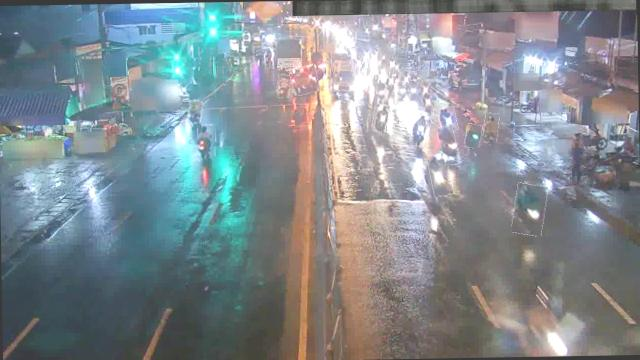Bike: (512, 183, 547, 236), (428, 154, 452, 196), (440, 125, 460, 164), (197, 125, 216, 159), (411, 114, 431, 146), (482, 112, 500, 142), (439, 106, 457, 132), (373, 103, 389, 131), (464, 124, 482, 148), (276, 74, 290, 99), (188, 100, 202, 124), (378, 78, 388, 100), (423, 92, 432, 115), (410, 80, 419, 97), (422, 80, 431, 96), (398, 81, 406, 98)
Car: (290, 66, 320, 96)
Truck: (330, 52, 356, 95)
